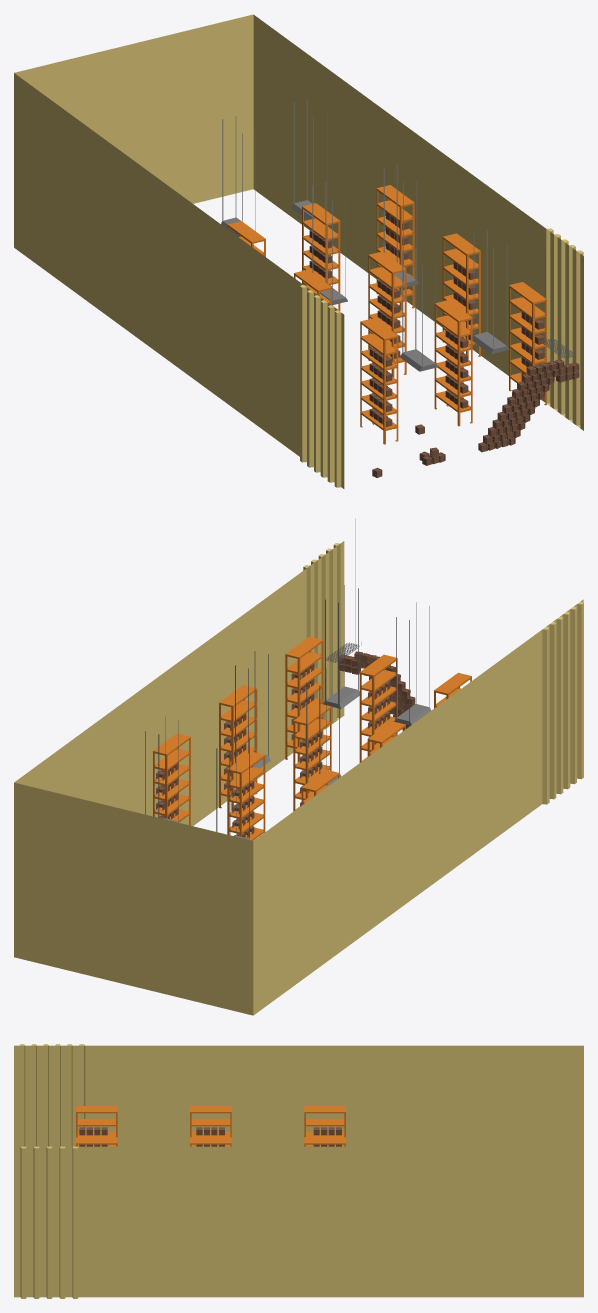
File: WarehouseProper.glb
3 renders of one model, top to bottom at view 1: azimuth 30°, elevation 25°; view 2: azimuth 150°, elevation 25°; view 3: azimuth 270°, elevation 25°, orthographic. The views are drawn at different scales.
Parts seen in each view (by area): view 1: WarehouseDio, WHShelf, Lights, FarCrate, HeroCrate.005; view 2: WarehouseDio, WHShelf, Lights, FarCrate, HeroCrate.005; view 3: WarehouseDio, WHShelf, FarCrate.
Part boxes in pixels (box(x1,y1,x2,y2)): WarehouseDio: box(14, 14, 583, 488); WHShelf: box(227, 185, 546, 444); Lights: box(221, 98, 509, 371); FarCrate: box(309, 212, 544, 426); HeroCrate.005: box(478, 358, 564, 452); WarehouseDio: box(14, 541, 583, 1015); WHShelf: box(153, 636, 471, 840); Lights: box(145, 585, 431, 840); FarCrate: box(156, 663, 390, 837); HeroCrate.005: box(354, 651, 415, 731); WarehouseDio: box(14, 1044, 583, 1298); WHShelf: box(76, 1106, 345, 1146); FarCrate: box(79, 1127, 341, 1146).
Bounding box in the file's own units: 35.47 × 28.44 × 82.05.
